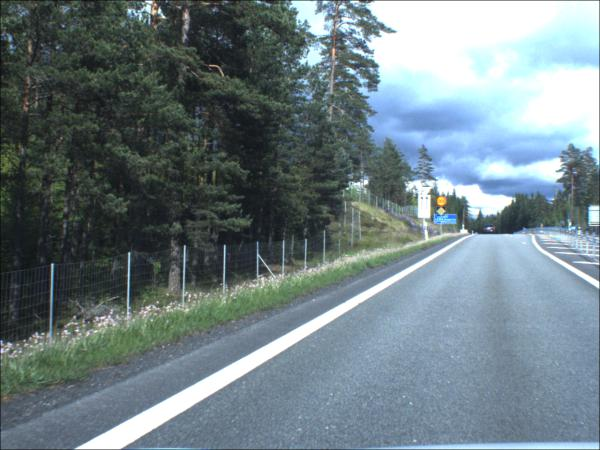100_SIGN: (437, 198, 447, 208)
PRIORITY_ROAD: (437, 208, 446, 218)
